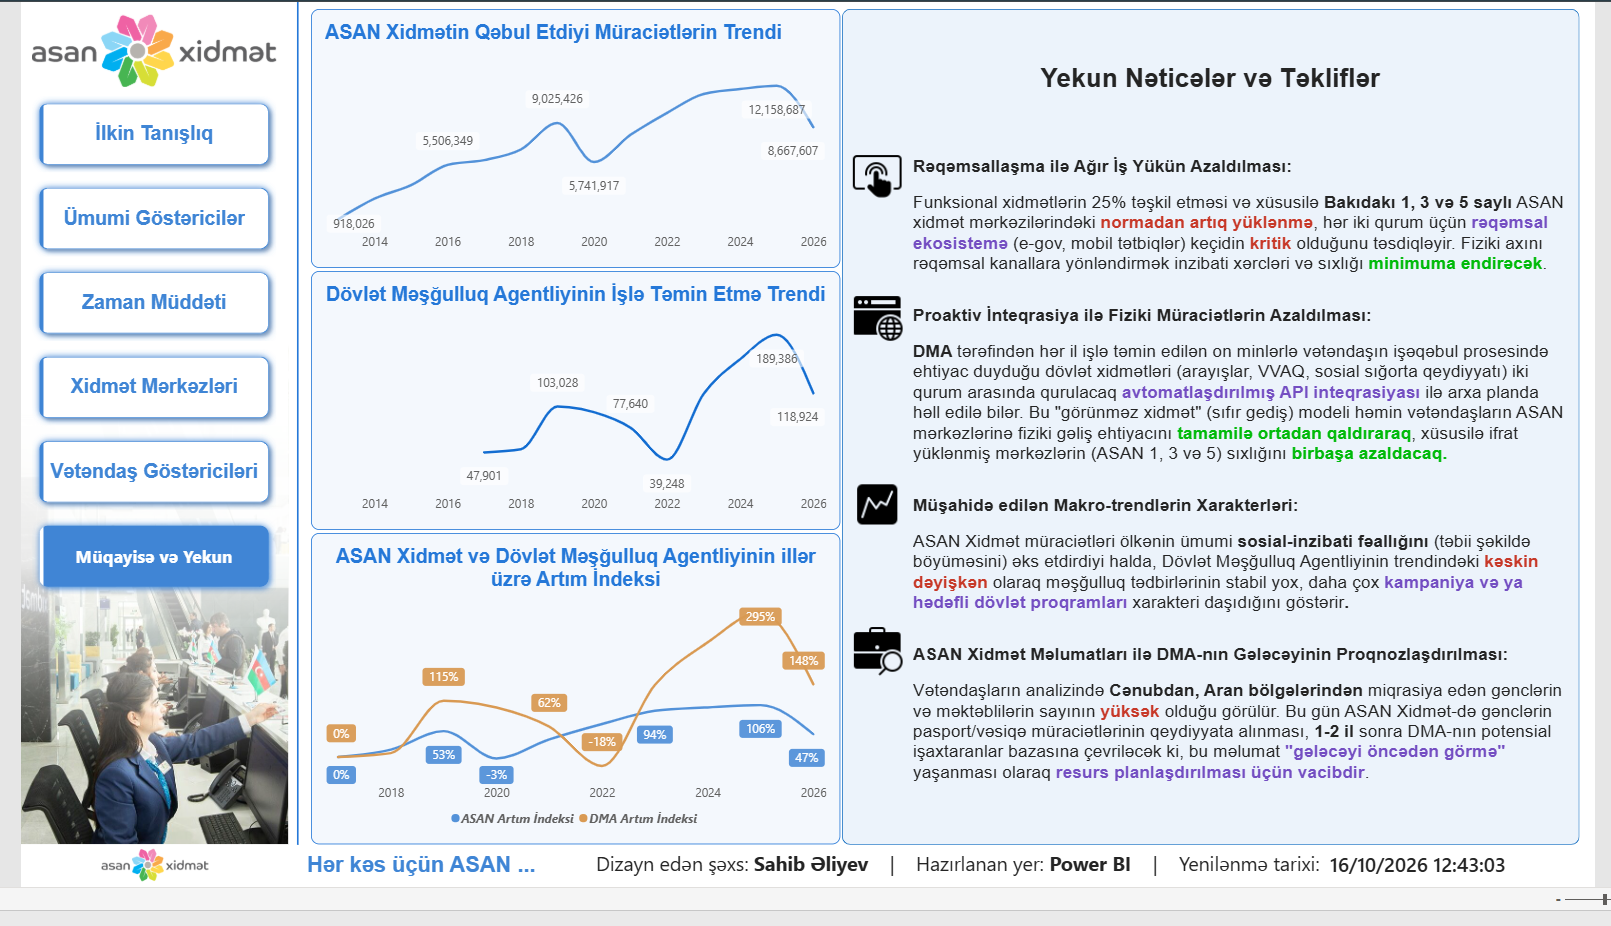

Layout of this report page (visuals, bound fields, positions):
{"tool":"powerbi","page":{"name":"Müqayisə və Yekun","canvas":[1920,1080],"ordinal":5},"visuals":[{"type":"image","box":[0,396,326.1,632.6],"z":0},{"type":"image","box":[0,204,326,738],"z":1000},{"type":"shape","box":[326.8,0,21.4,1028.6],"z":2000},{"type":"image","box":[14,8,298,102],"z":3000},{"type":"image","box":[58.6,1031.4,210,42.9],"z":4000},{"type":"pageNavigator","box":[13,114.7,298.7,610.3],"z":5000},{"type":"textbox","box":[348.6,1037.1,286,32],"z":6000},{"type":"lineChart","title":"ASAN Xidmətin Qəbul Etdiyi Müraciətlərin Trendi","fields":{"Category":["Dim_Date.date.Variation.Date Hierarchy.Year"],"Y":["Ölçülər.Toplam"]},"box":[354,8,646,316],"z":7000},{"type":"lineChart","title":"Dövlət Məşğulluq Agentliyinin İşlə Təmin Etmə Trendi","fields":{"Category":["Dim_Date.Year"],"Y":["Sum(Fact_DMA.İşlə təmin edilənlər)"]},"box":[354,328,646,316],"z":8000},{"type":"shape","box":[1002,8,900,1020],"z":9000},{"type":"textbox","box":[1022,74,860,42],"z":10000},{"type":"lineChart","title":"ASAN Xidmət və Dövlət Məşğulluq Agentliyinin illər üzrə Artım İndeksi","fields":{"Category":["Dim_Date.Year"],"Y":["Ölçülər.ASAN Artım İndeksi","Ölçülər.DMA Artım İndeksi"]},"box":[354,648,646,380],"z":11000},{"type":"textbox","box":[1088,188,800,776],"z":12000},{"type":"image","box":[1002,180,86,62],"z":13000},{"type":"image","box":[1002,352,86,62],"z":14000},{"type":"image","box":[1002,582,86,62],"z":15000},{"type":"image","box":[1002,760,86,62],"z":16000},{"type":"textbox","box":[701.2,1034.5,900.3,36.8],"z":17000},{"type":"cardVisual","fields":{"Data":["Min(Yenilənmə Tarixi.Yenilənmə Tarixi)"]},"box":[1582,1036.6,320.3,32.5],"z":18000}]}

Visuals, with their boxes in screenshot pixels (x1, y1, x2, y2), scaled from the page's 1920x1080 canvas onto the 1611x926 screenshot:
image: <region>0, 340, 274, 882</region>
image: <region>0, 175, 274, 808</region>
shape: <region>274, 0, 292, 882</region>
image: <region>12, 7, 262, 94</region>
image: <region>49, 884, 225, 921</region>
pageNavigator: <region>11, 98, 262, 622</region>
textbox: <region>292, 889, 532, 917</region>
"ASAN Xidmətin Qəbul Etdiyi Müraciətlərin Trendi" lineChart: <region>297, 7, 839, 278</region>
"Dövlət Məşğulluq Agentliyinin İşlə Təmin Etmə Trendi" lineChart: <region>297, 281, 839, 552</region>
shape: <region>841, 7, 1596, 881</region>
textbox: <region>858, 63, 1579, 99</region>
"ASAN Xidmət və Dövlət Məşğulluq Agentliyinin illər üzrə Artım İndeksi" lineChart: <region>297, 556, 839, 881</region>
textbox: <region>913, 161, 1584, 827</region>
image: <region>841, 154, 913, 207</region>
image: <region>841, 302, 913, 355</region>
image: <region>841, 499, 913, 552</region>
image: <region>841, 652, 913, 705</region>
textbox: <region>588, 887, 1344, 919</region>
cardVisual - Min(Yenilənmə Tarixi.Yenilənmə Tarixi): <region>1327, 889, 1596, 917</region>
